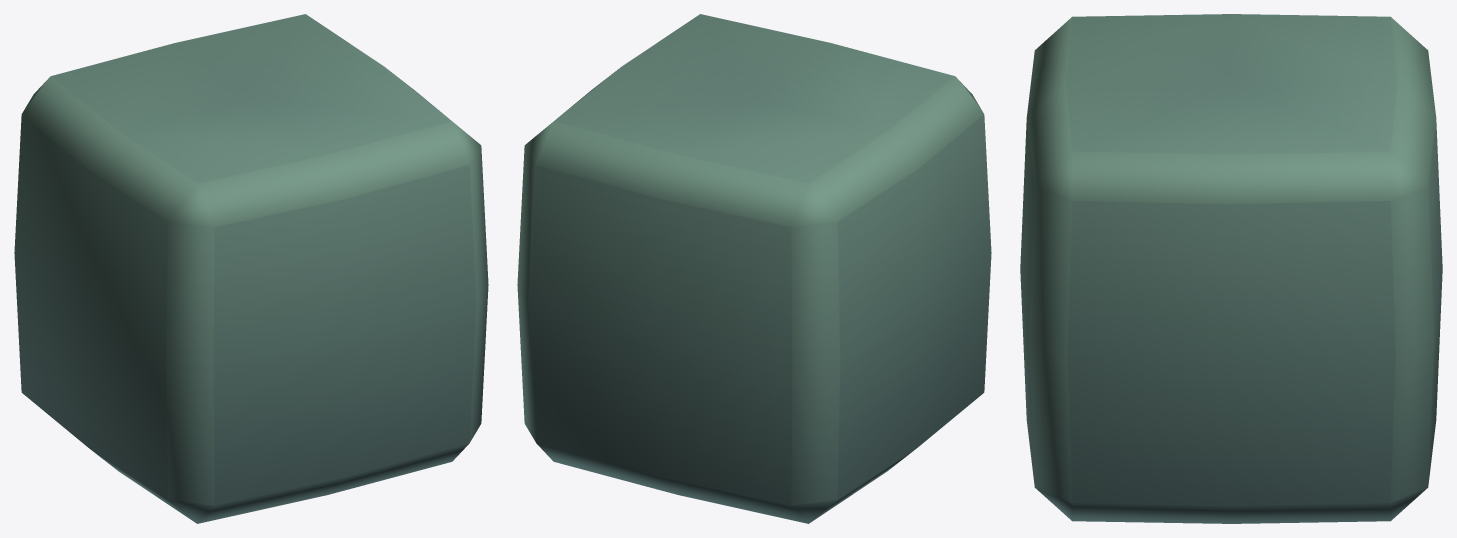
Rendered from cube_01_shade_1_LOD_setup.fbx.
3 views of the same model, side by side, from view 1: azimuth 30°, elevation 25°; view 2: azimuth 150°, elevation 25°; view 3: azimuth 270°, elevation 25° (orthographic). The views are drawn at different scales.
Parts seen in each view (by area): view 1: cube_01_shade_1_LOD0; view 2: cube_01_shade_1_LOD0; view 3: cube_01_shade_1_LOD0.
Boxes of the visible parts, <box> form: cube_01_shade_1_LOD0: <box>14,14,488,523</box>; cube_01_shade_1_LOD0: <box>517,14,991,523</box>; cube_01_shade_1_LOD0: <box>1020,14,1442,523</box>.
Size of what is drawn, in the model's own units: 56.86 by 55.02 by 57.01.
